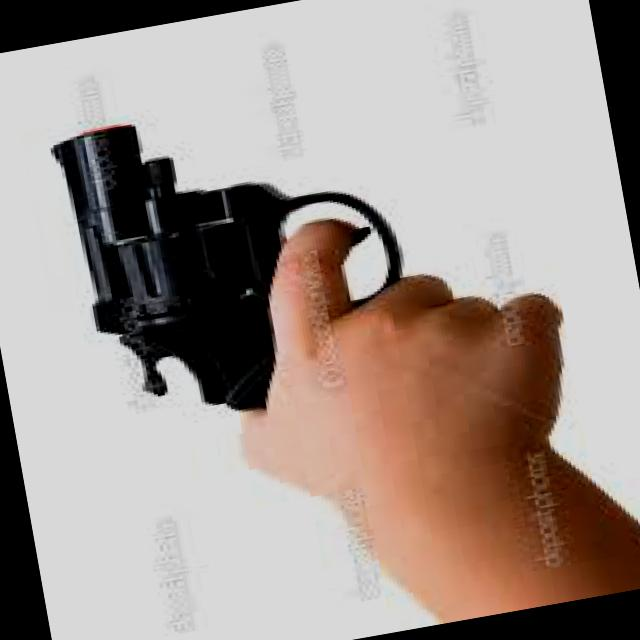handgun: (44, 75, 430, 448)
